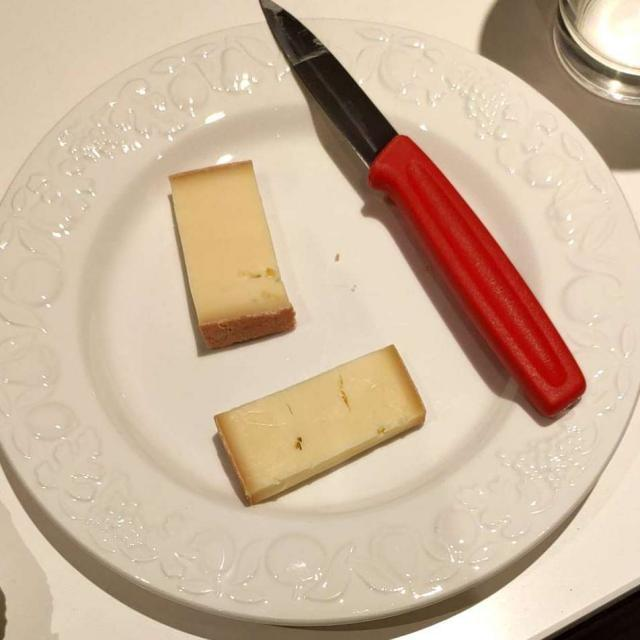cheese: (143, 157, 428, 512)
